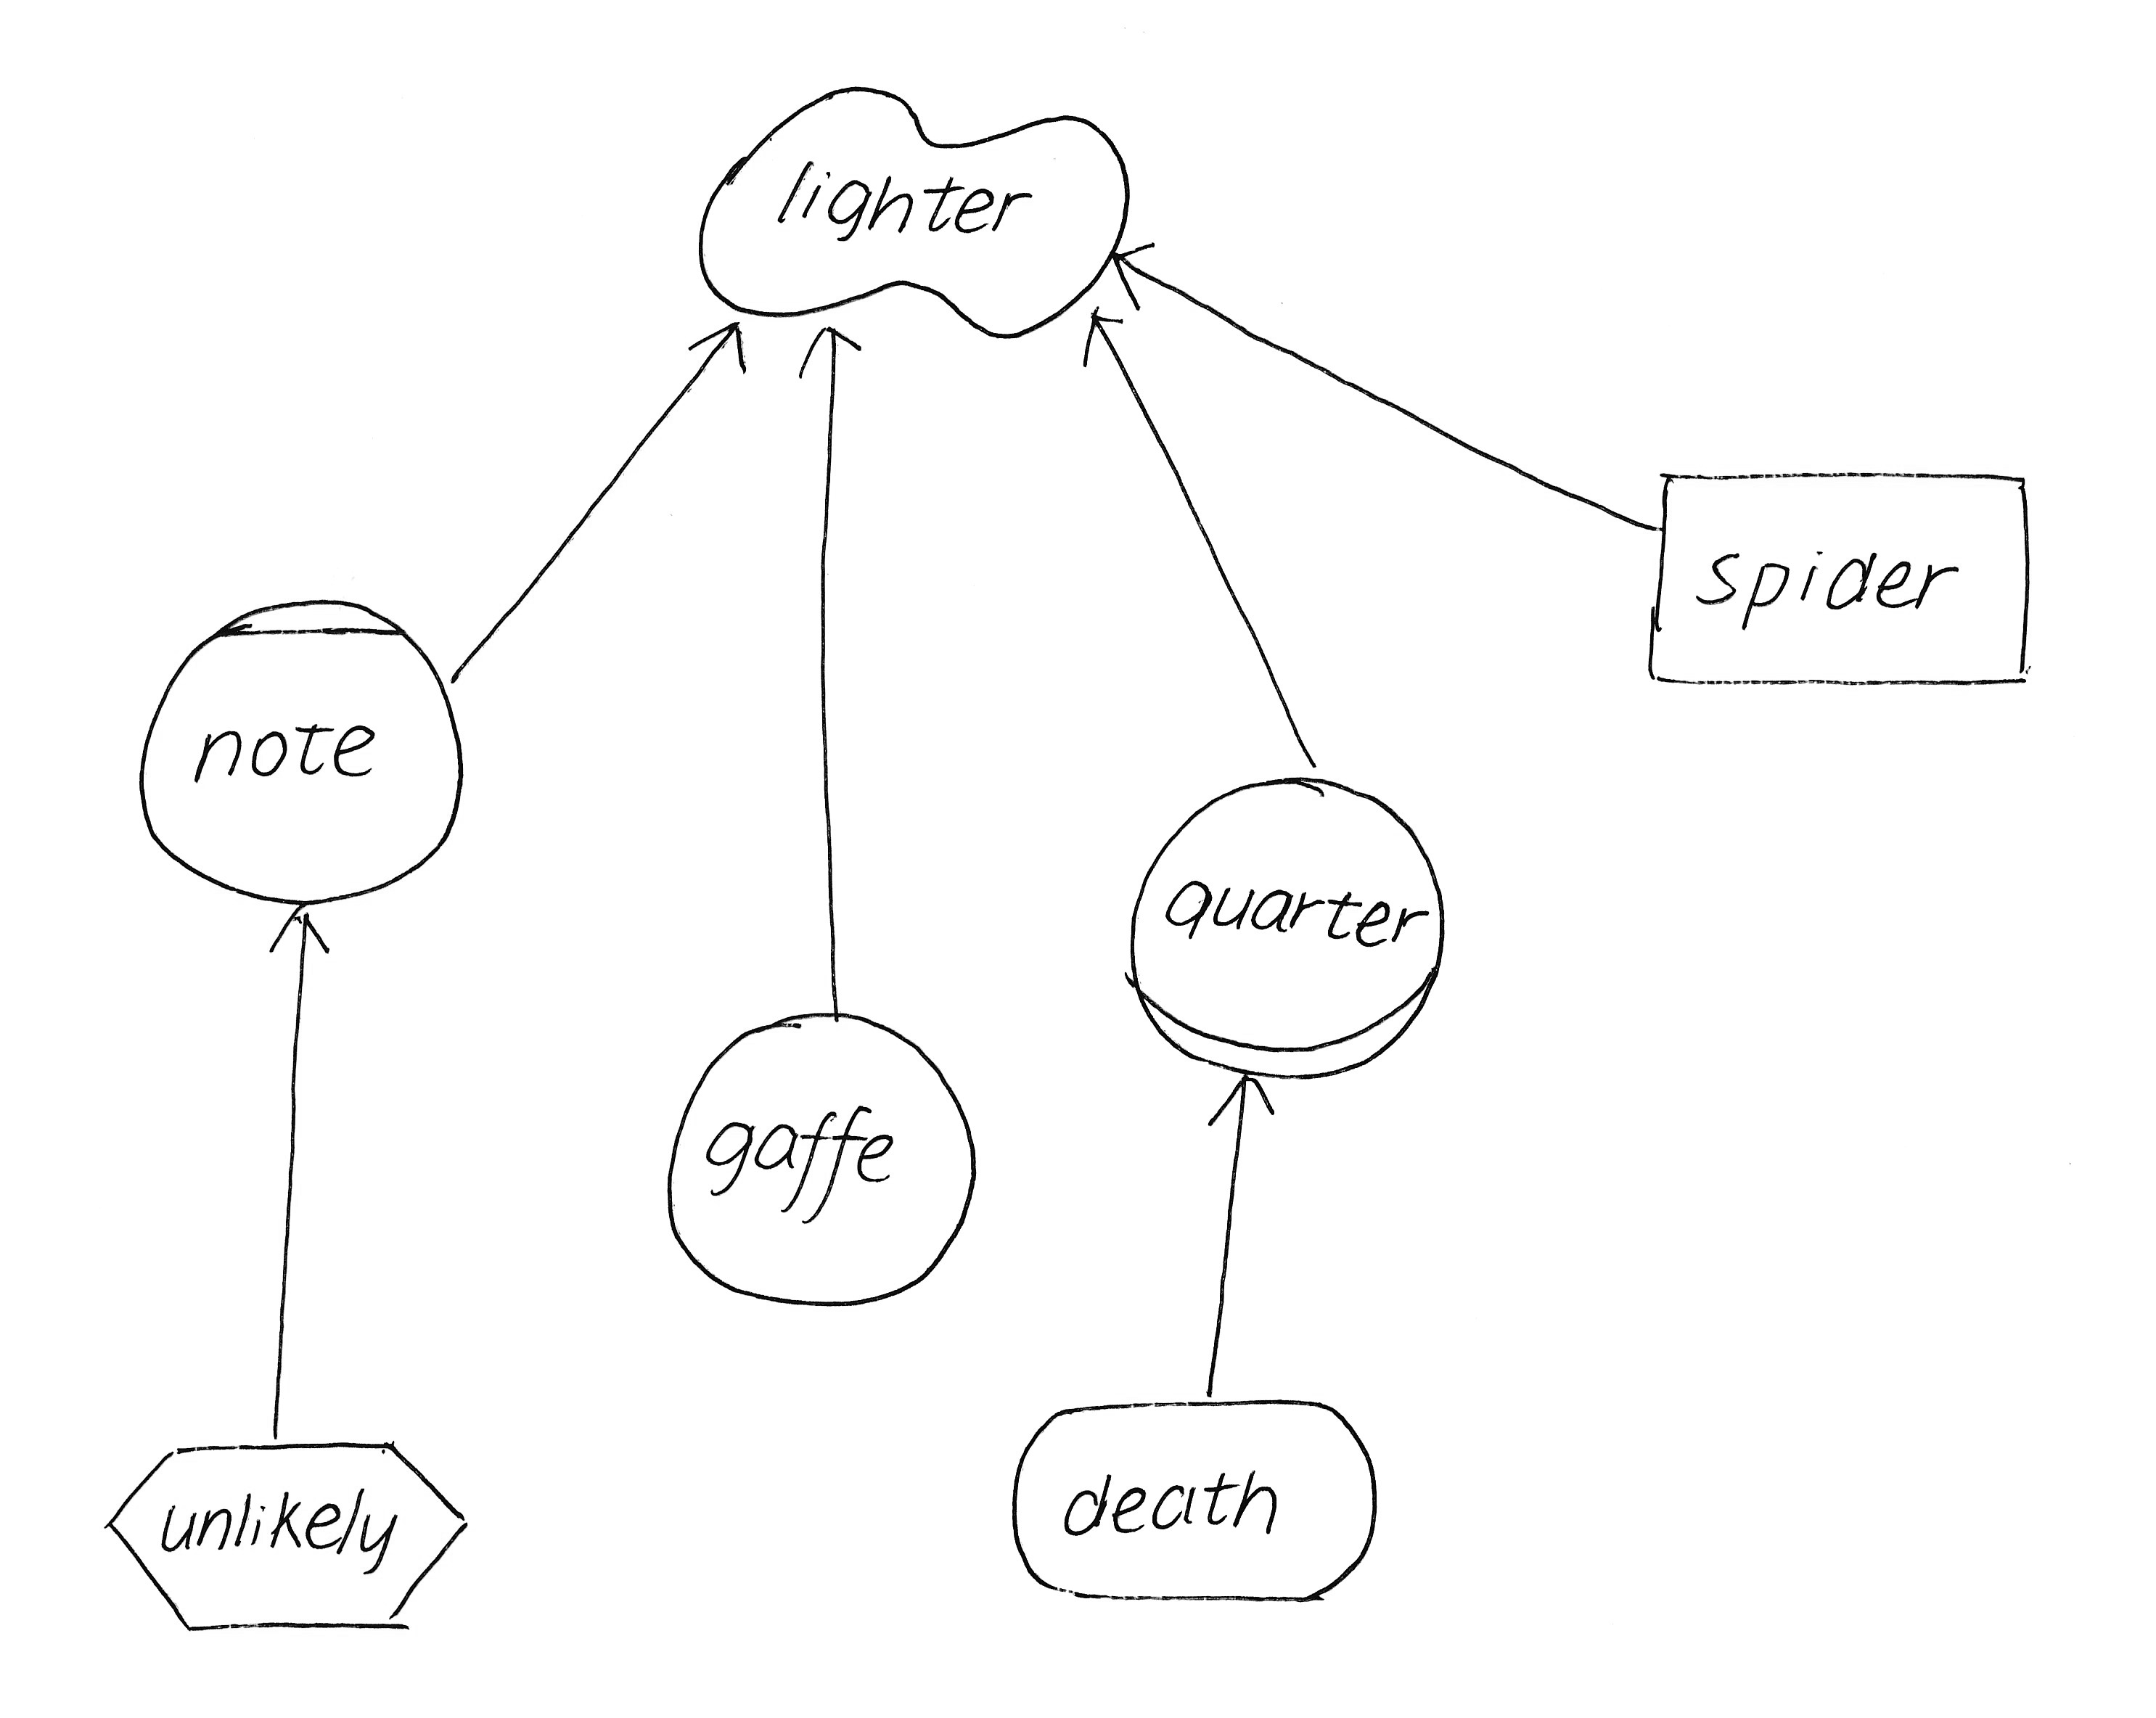actor: (647, 989, 990, 1324)
agent: (123, 580, 480, 919)
arrow: (1199, 1055, 1285, 1134), (677, 312, 764, 387), (263, 892, 340, 968), (796, 317, 869, 387), (1106, 228, 1162, 300), (1076, 300, 1131, 372)
goal: (989, 1373, 1406, 1620)
quality: (680, 63, 1150, 351)
resource: (1625, 445, 2056, 708)
role: (1113, 756, 1476, 1099)
task: (82, 1416, 480, 1643)
